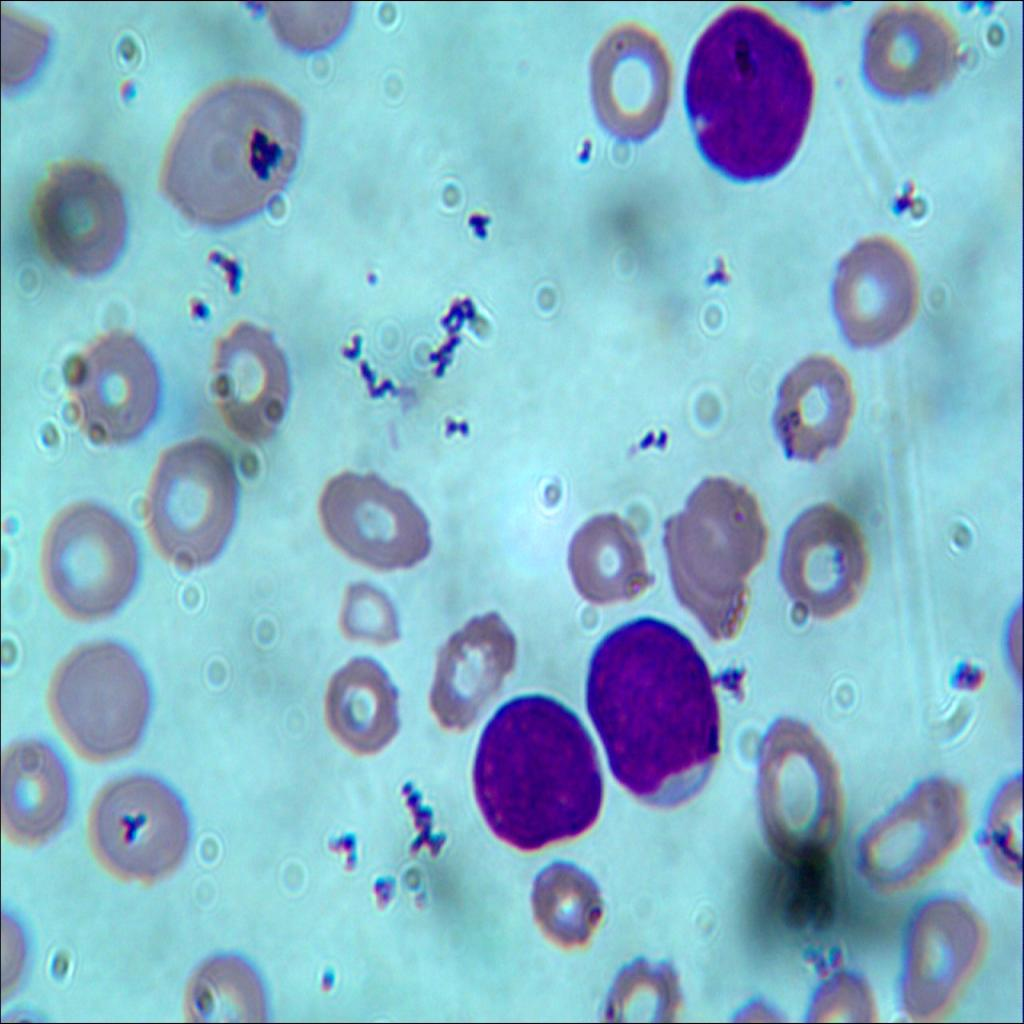Eritrosit: (161, 74, 304, 218), (839, 757, 975, 892), (738, 719, 850, 868), (313, 441, 436, 574), (38, 139, 142, 278), (143, 441, 243, 580), (812, 221, 918, 352), (558, 498, 670, 616), (78, 324, 180, 452), (42, 495, 135, 627), (768, 504, 876, 616), (894, 891, 984, 1022), (850, 2, 964, 105), (308, 641, 414, 751), (762, 351, 864, 464), (210, 312, 293, 450), (414, 615, 519, 722), (582, 20, 671, 145), (662, 512, 748, 639), (54, 648, 150, 758), (93, 779, 191, 885), (526, 829, 606, 948), (679, 475, 762, 581), (178, 932, 264, 1023), (598, 942, 694, 1023), (326, 554, 401, 648), (0, 740, 63, 850)
Limfoblast: (678, 0, 818, 185), (589, 617, 719, 814), (470, 692, 602, 854)
Platelet: (306, 957, 343, 1011), (111, 64, 141, 115), (358, 262, 384, 296)
